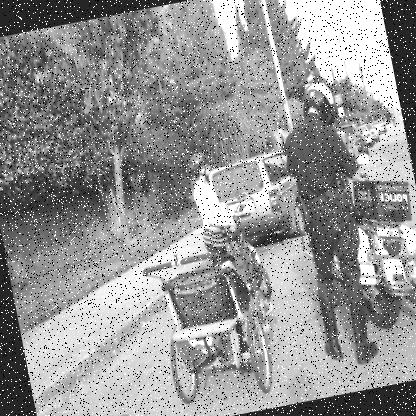Car: (198, 154, 306, 254), (334, 118, 368, 156), (338, 128, 362, 168), (356, 122, 374, 148), (364, 120, 380, 144), (372, 117, 387, 133), (386, 120, 394, 126)
